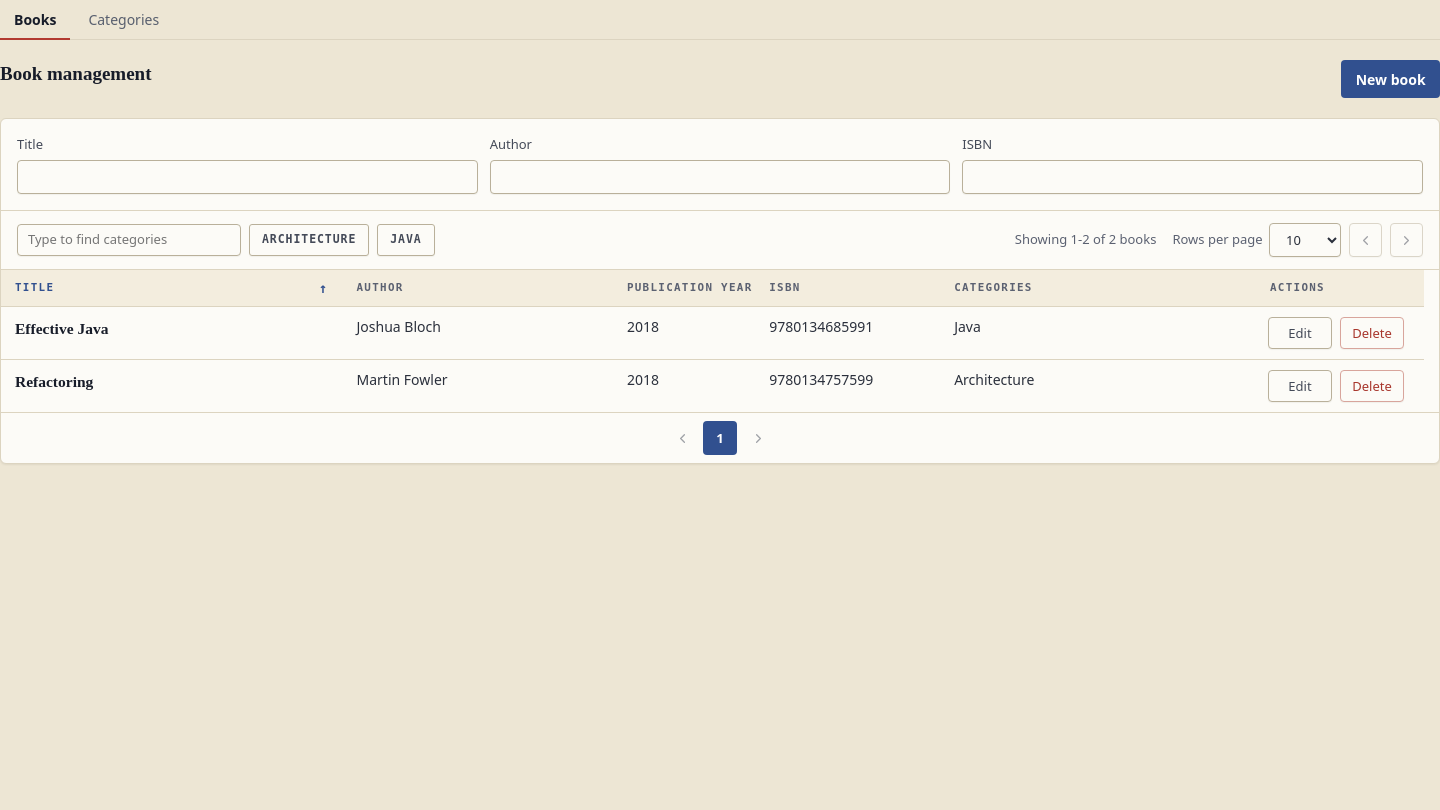
Test case: AdminCatalogPage › closes the delete dialog without deleting when cancelled
Click the button with aria-label "Delete Effective Java" at (1372, 333), box [1340,317,1404,349]
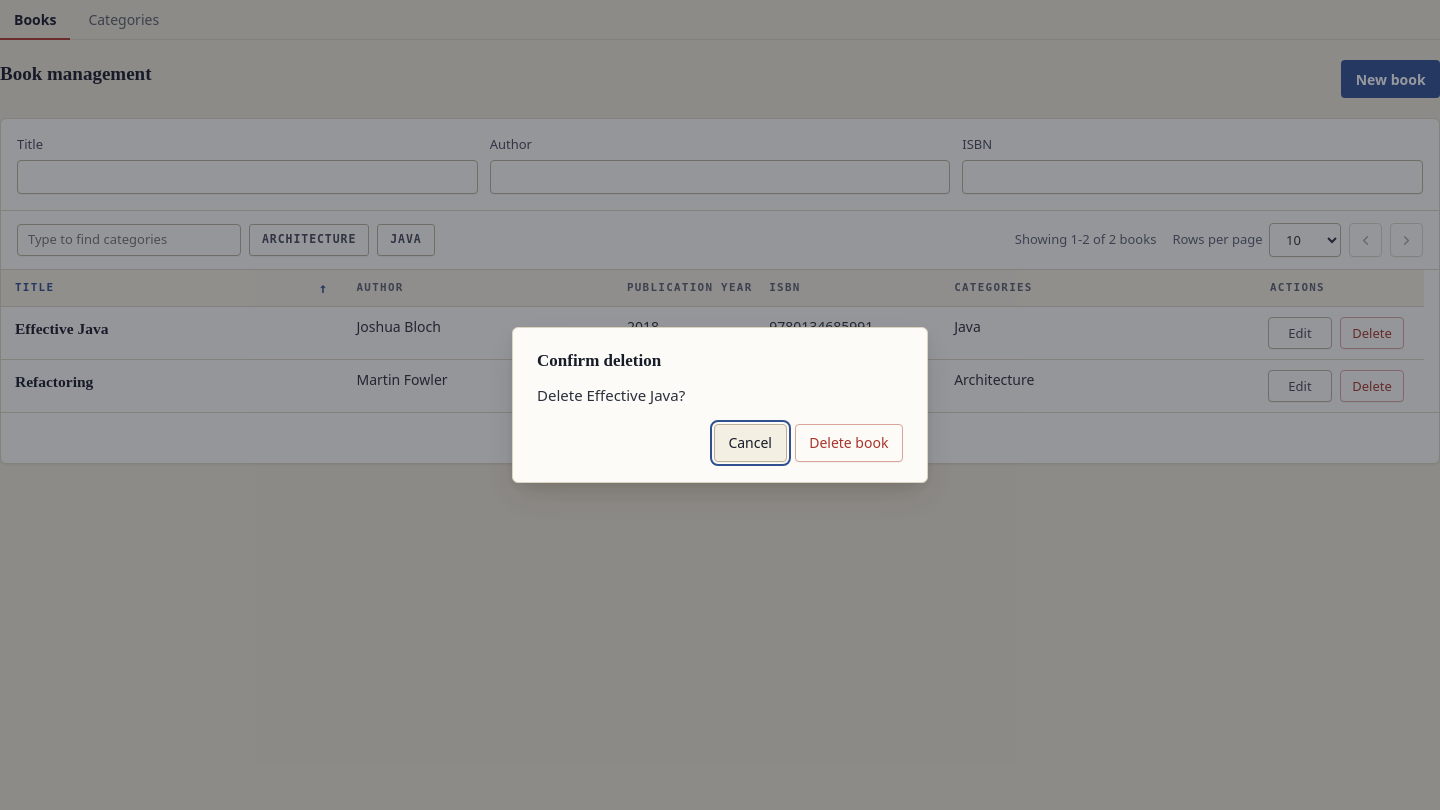
Click the button "Cancel" at (750, 443), box [714,424,787,462]
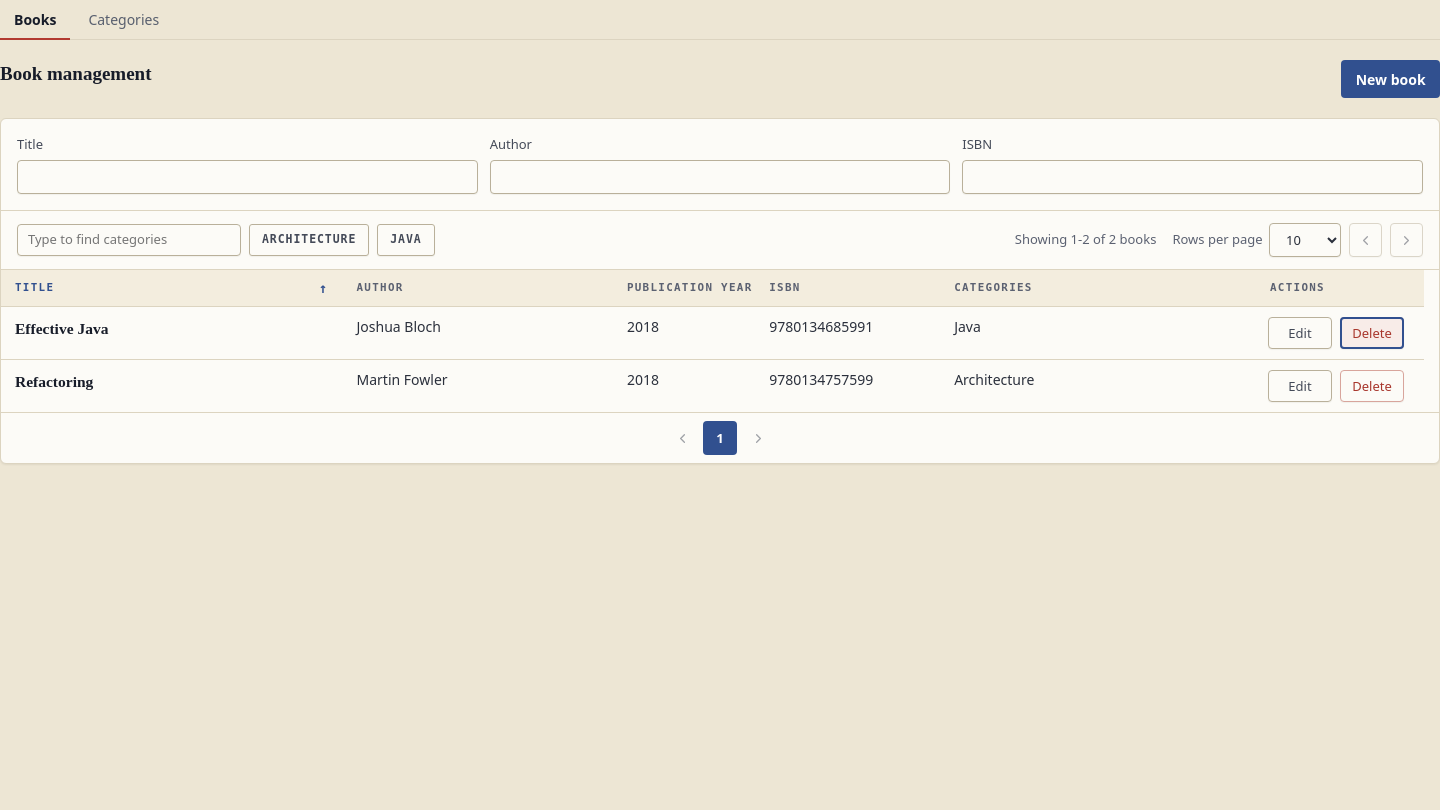
Expected: the column heading "Effective Java" is shown, [1,307,342,360]
Expected: the dialog is gone
